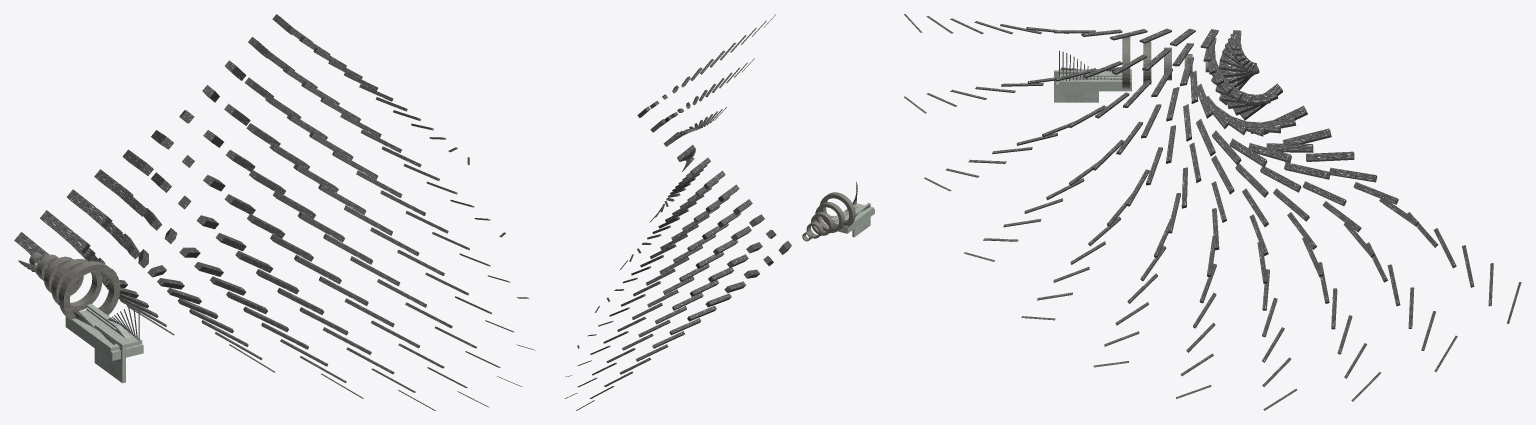
Rendered from archiV2.glb.
The picture shows the model from 3 angles, left to right: view 1: azimuth 30°, elevation 25°; view 2: azimuth 150°, elevation 25°; view 3: azimuth 270°, elevation 25°; orthographic projection. The views are drawn at different scales.
Parts seen in each view (by area): view 1: Cube.010, Cylinder.002, Cube.004, Cube.009, Cube.007; view 2: Cube.010, Cylinder.002, Cube.004; view 3: Cube.010, Cube.004, Cylinder.002, Cube.009.
Boxes of the visible parts, x1=… form: Cube.010: x1=14, y1=14, x2=535, y2=410; Cylinder.002: x1=29, y1=252, x2=120, y2=320; Cube.004: x1=65, y1=303, x2=143, y2=360; Cube.009: x1=94, y1=324, x2=125, y2=383; Cube.007: x1=98, y1=301, x2=139, y2=340; Cube.010: x1=564, y1=14, x2=791, y2=410; Cylinder.002: x1=802, y1=192, x2=855, y2=241; Cube.004: x1=833, y1=203, x2=874, y2=233; Cube.010: x1=904, y1=14, x2=1521, y2=410; Cube.004: x1=1056, y1=69, x2=1131, y2=91; Cylinder.002: x1=1122, y1=36, x2=1208, y2=88; Cube.009: x1=1054, y1=70, x2=1098, y2=102.
Size of the model in its own units: 106 by 109 by 172.
Materials: 3 (3 with a texture image).
